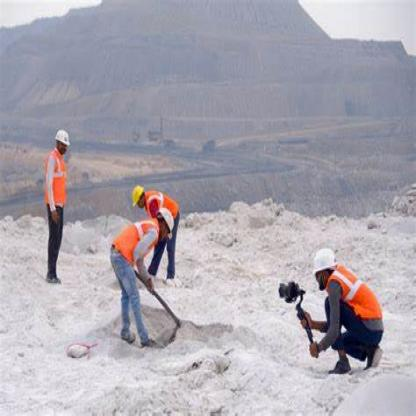person: (98, 204, 192, 358), (306, 234, 398, 384), (129, 164, 185, 276), (36, 116, 71, 279)
